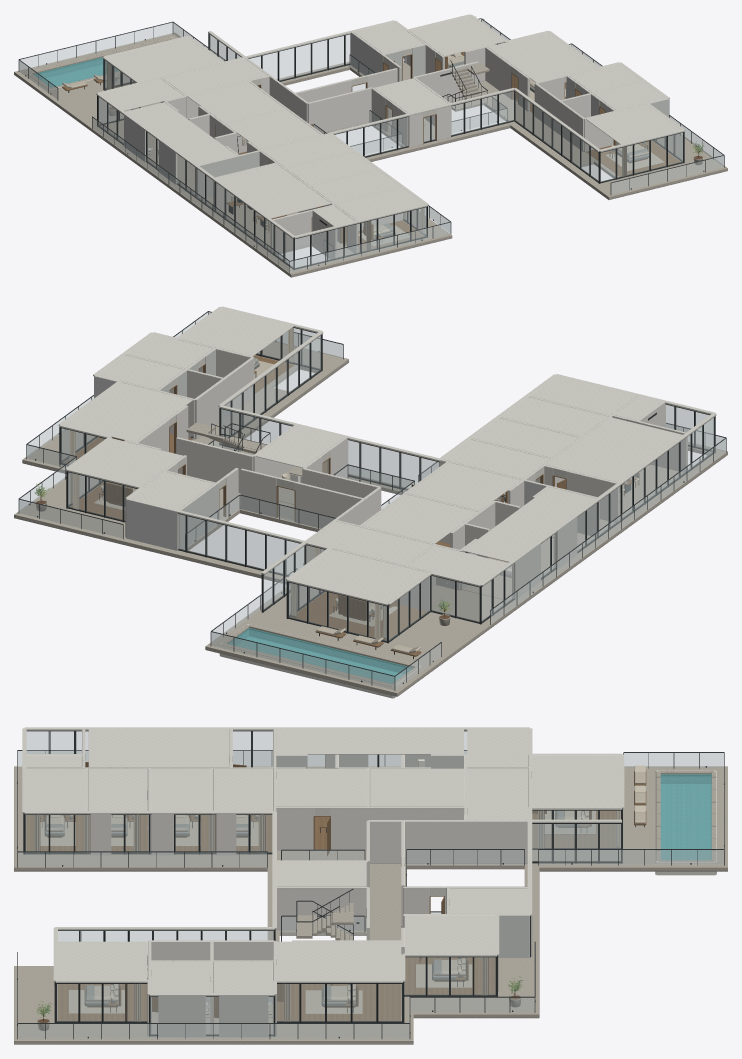
3 views of the same model, one above another, from view 1: azimuth 30°, elevation 25°; view 2: azimuth 150°, elevation 25°; view 3: azimuth 270°, elevation 25° (orthographic). The views are drawn at different scales.
Parts seen in each view (by area): view 1: 2F__Ceilings, 2F__Details, 2F__Windows, 2F__Structure, 2F__Furniture, 2F__BakedFloors, 2F__Pools; view 2: 2F__Ceilings, 2F__Details, 2F__Windows, 2F__Structure, 2F__BakedFloors, 2F__Pools, 2F__Furniture; view 3: 2F__Ceilings, 2F__Details, 2F__Structure, 2F__Windows, 2F__Furniture, 2F__BakedFloors, 2F__Pools.
Boxes of the visible parts, x1,y1,x2,y2 form: 2F__Ceilings: (100,16,680,226); 2F__Details: (14,18,727,277); 2F__Windows: (96,14,685,269); 2F__Structure: (14,30,727,277); 2F__Furniture: (62,16,704,250); 2F__BakedFloors: (114,52,680,251); 2F__Pools: (26,37,174,90); 2F__Ceilings: (63,308,682,602); 2F__Details: (14,311,727,696); 2F__Windows: (58,306,716,643); 2F__Structure: (14,339,727,696); 2F__BakedFloors: (64,355,681,640); 2F__Pools: (219,624,421,698); 2F__Furniture: (34,313,639,659); 2F__Ceilings: (26,729,619,992); 2F__Details: (14,729,727,1044); 2F__Structure: (14,729,727,1044); 2F__Windows: (22,727,624,1036); 2F__Furniture: (33,759,646,1030); 2F__BakedFloors: (26,810,620,1033); 2F__Pools: (655,770,716,875).
Size of the model in its own units: 39.93 by 4.99 by 43.85.
33 materials, 8 textured.
